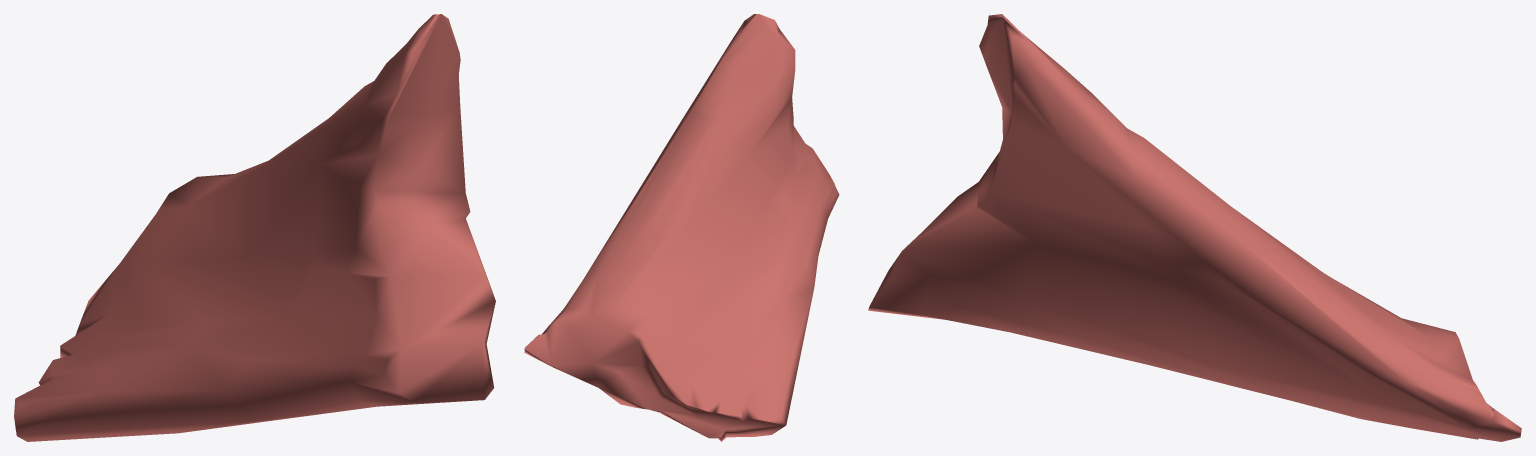
3 views of the same model, side by side, from view 1: azimuth 30°, elevation 25°; view 2: azimuth 150°, elevation 25°; view 3: azimuth 270°, elevation 25° (orthographic). The views are drawn at different scales.
Visible parts, largest first — view 1: 左侧头外侧直肌; view 2: 左侧头外侧直肌; view 3: 左侧头外侧直肌.
Part boxes in pixels (x1=…): 左侧头外侧直肌: x1=14, y1=14, x2=495, y2=441; 左侧头外侧直肌: x1=524, y1=14, x2=839, y2=441; 左侧头外侧直肌: x1=868, y1=14, x2=1521, y2=441.
Bounding box in the file's own units: 0.0181 × 0.0256 × 0.0314.
